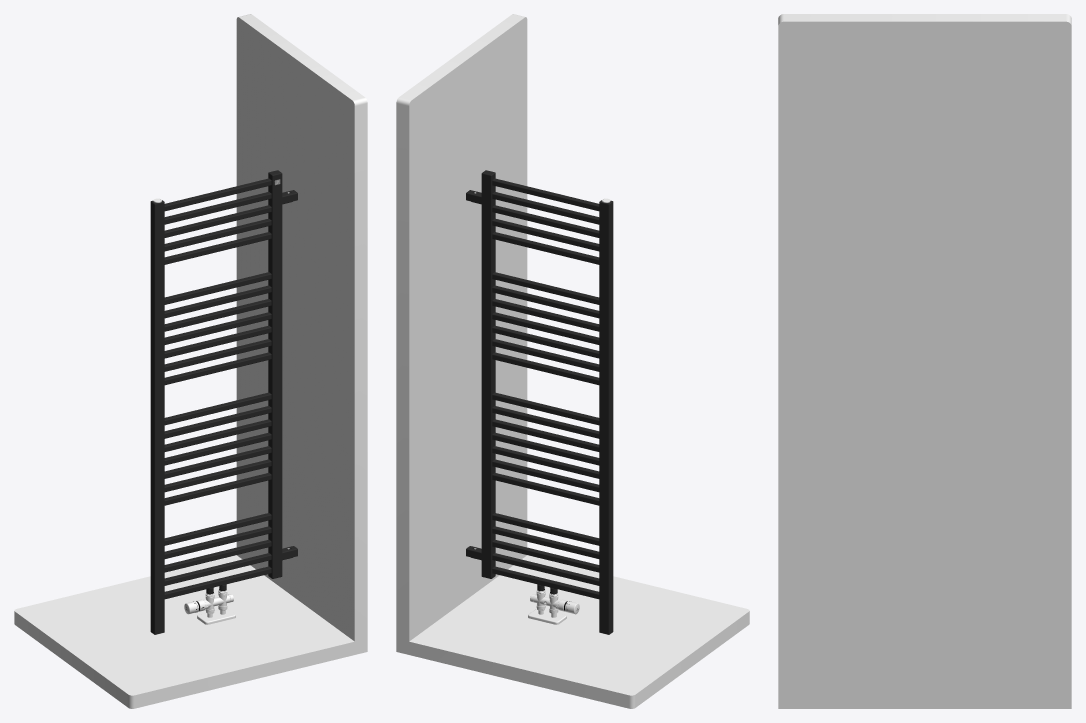
3 views of the same model, side by side, from view 1: azimuth 30°, elevation 25°; view 2: azimuth 150°, elevation 25°; view 3: azimuth 270°, elevation 25° (orthographic). The views are drawn at different scales.
Visible parts, largest first — view 1: sciana_bone_dw, PGBSD161050; view 2: sciana_bone_dw, PGBSD161050; view 3: sciana_bone_dw.
Boxes of the visible parts, box(x1,y1,x2,y2) form: sciana_bone_dw: box(14, 14, 367, 708); PGBSD161050: box(150, 170, 297, 634); sciana_bone_dw: box(396, 14, 749, 708); PGBSD161050: box(466, 170, 613, 634); sciana_bone_dw: box(778, 14, 1071, 708).
Bounding box in the file's own units: 0.9261 × 2.07 × 0.8.
Materials: 11 (11 with a texture image).
